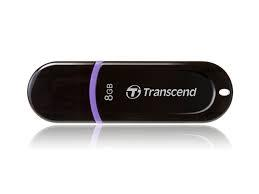Flash-drive: (23, 50, 240, 135)
